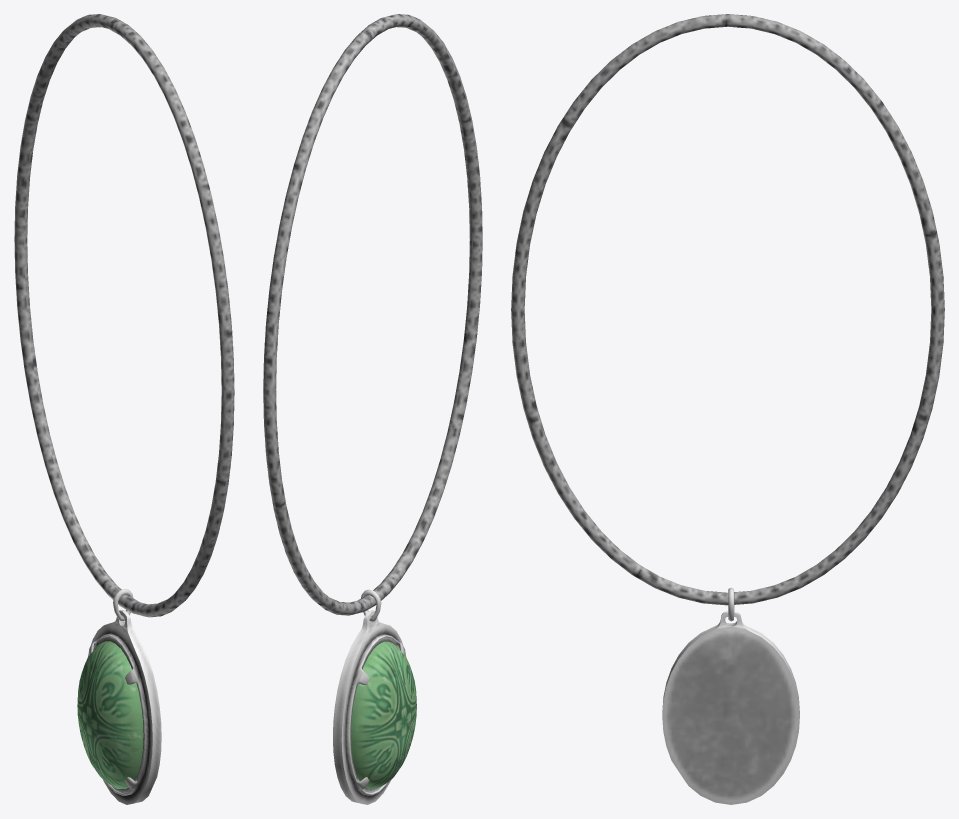
Rendered from SM_Necklace_A_Silver.fbx.
3 renders of one model, left to right at view 1: azimuth 30°, elevation 25°; view 2: azimuth 150°, elevation 25°; view 3: azimuth 270°, elevation 25°, orthographic.
Visible parts, largest first — view 1: SM_Necklace_A_Silver_LOD0; view 2: SM_Necklace_A_Silver_LOD0; view 3: SM_Necklace_A_Silver_LOD0.
Part boxes in pixels (x1=…): SM_Necklace_A_Silver_LOD0: x1=14, y1=14, x2=234, y2=804; SM_Necklace_A_Silver_LOD0: x1=263, y1=14, x2=482, y2=804; SM_Necklace_A_Silver_LOD0: x1=511, y1=14, x2=944, y2=804.
Bounding box in the file's own units: 1.66 × 13.88 × 27.83.
